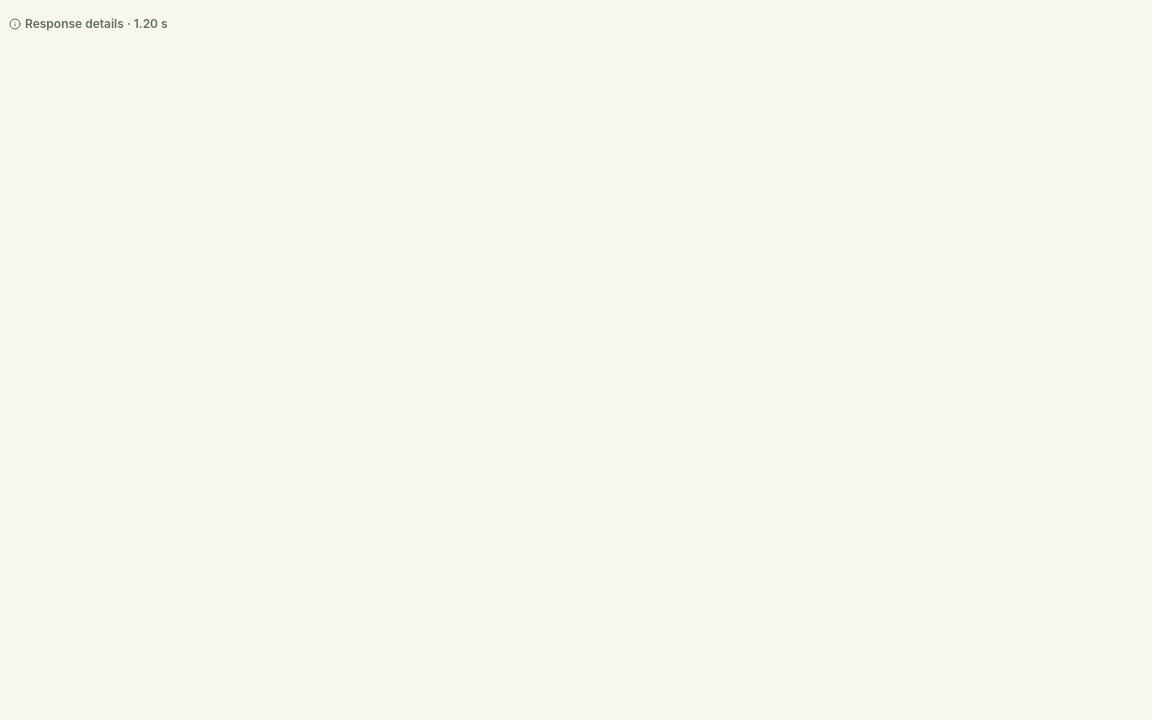
Test: one details entry opens performance, Provider metadata, and verification together
This screenshot has width=1152, height=720.
Expected: the text "Provider Snapshot" is not shown
Click the button "Response details · 1.20 s" at (88, 24), box [0, 12, 177, 36]
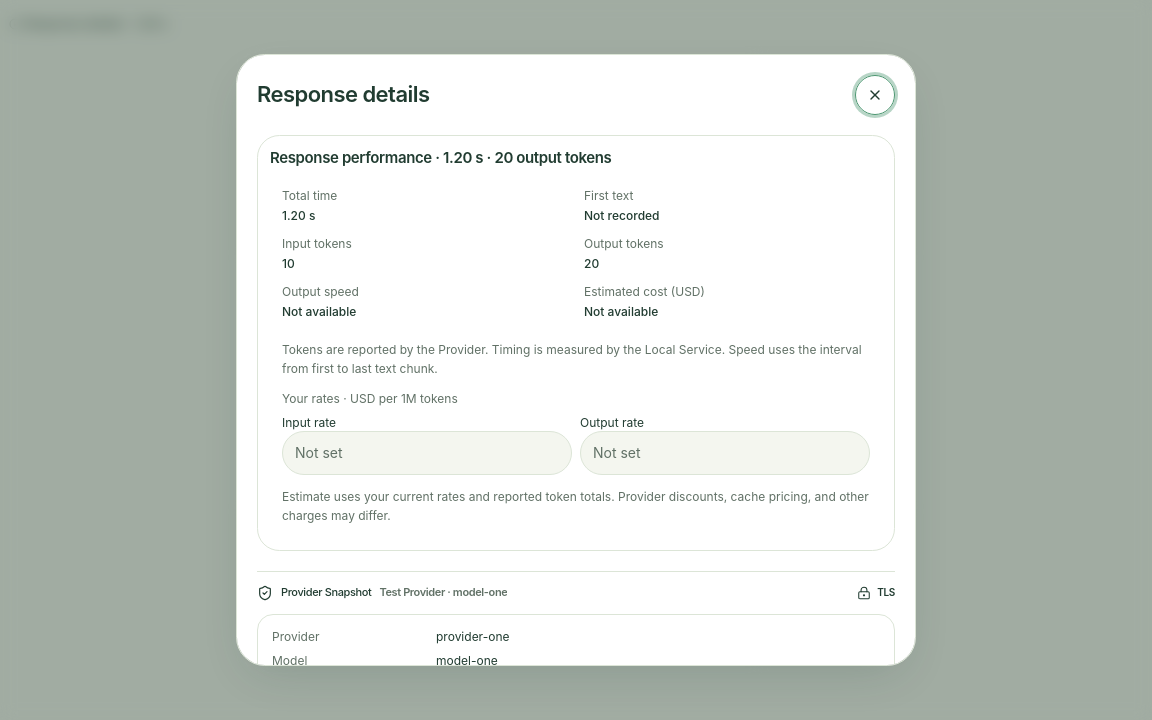
Result: the dialog "Response details" is shown at [236, 54, 916, 666]
Result: the text "Provider Snapshot" is shown at [281, 585, 371, 600]
Result: the text "Input tokens" is shown at [282, 236, 352, 251]
Click the button named "Close response details" at (875, 95), box [855, 75, 895, 115]
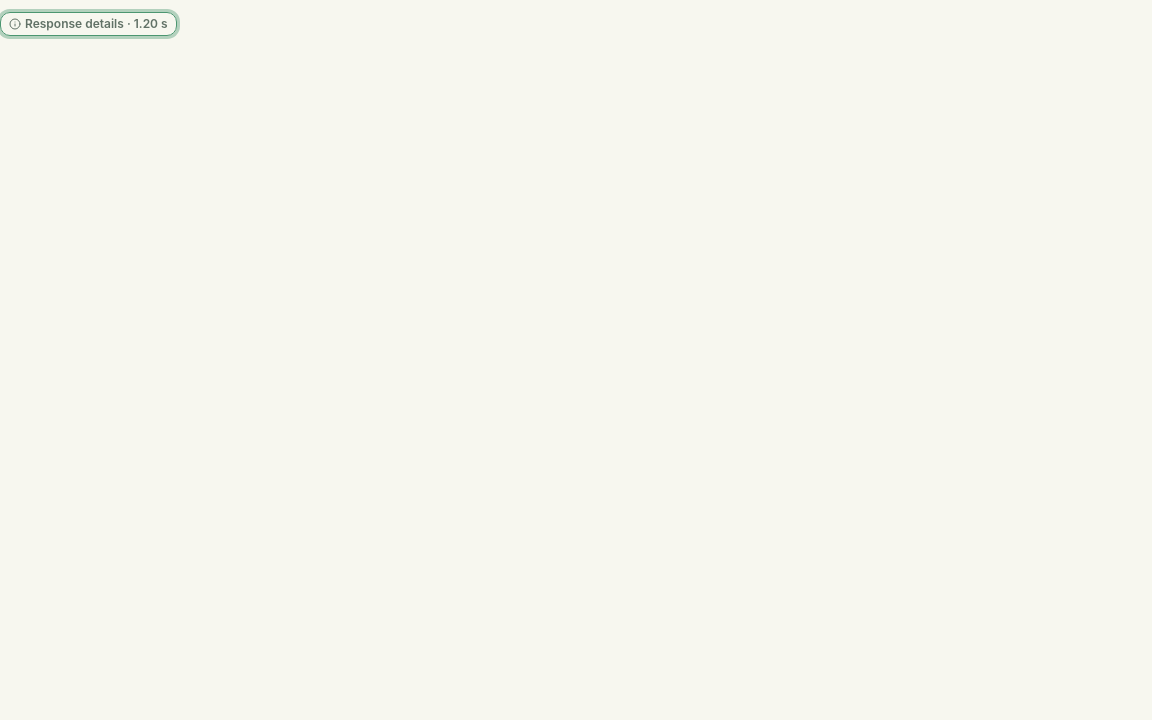
Result: the dialog is gone
